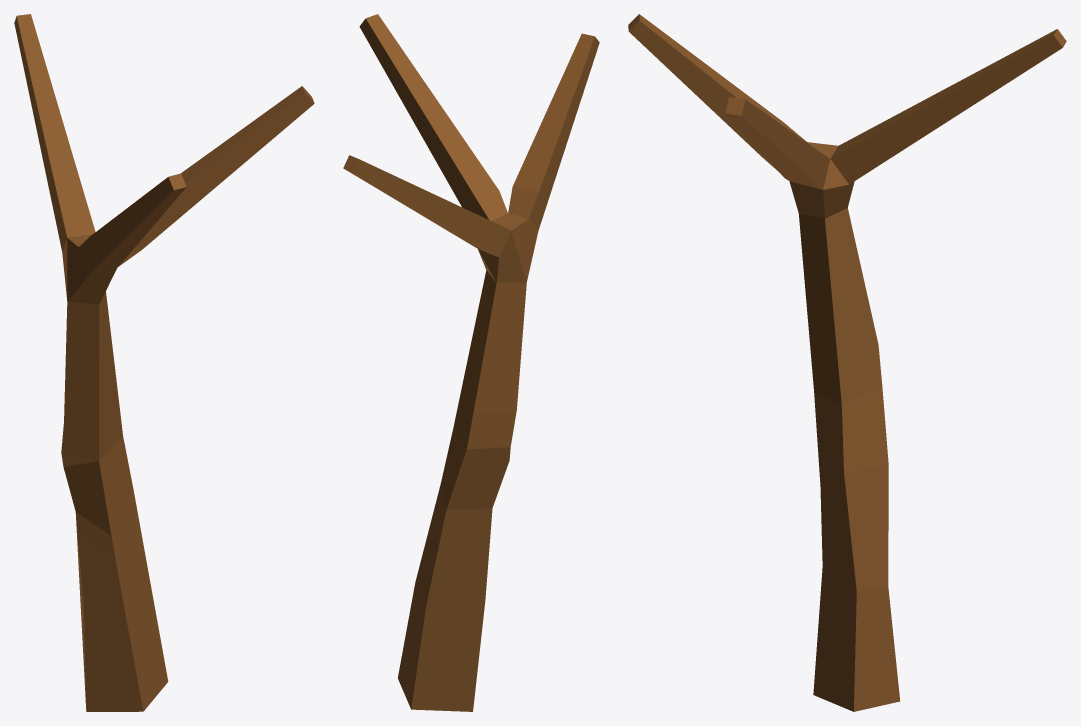
File: Pohon5.fbx
3 views of the same model, side by side, from view 1: azimuth 30°, elevation 25°; view 2: azimuth 150°, elevation 25°; view 3: azimuth 270°, elevation 25° (orthographic). The views are drawn at different scales.
Visible parts, largest first — view 1: tree_1a; view 2: tree_1a; view 3: tree_1a.
Boxes of the visible parts, x1,y1,x2,y2 form: tree_1a: (14,14,314,711); tree_1a: (343,14,599,711); tree_1a: (628,14,1066,711).
Size of the model in its own units: 152 by 438 by 260.
